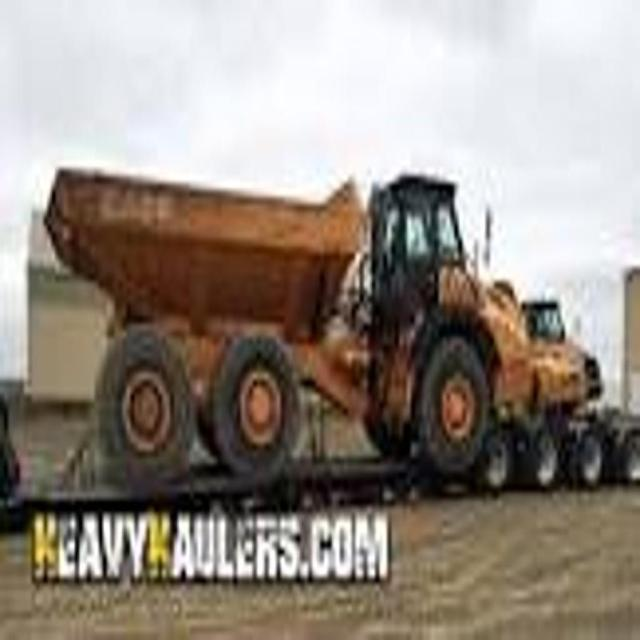dump_truck: (46, 144, 534, 496)
